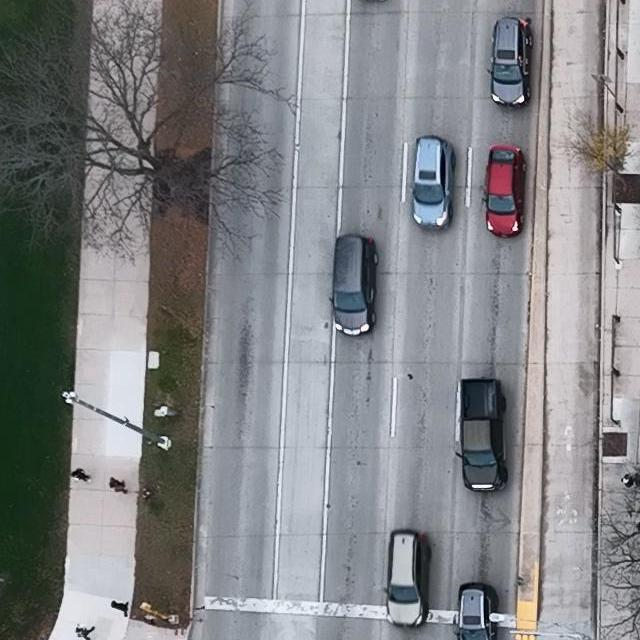car: (454, 376, 507, 492), (329, 235, 379, 336), (383, 530, 432, 626), (408, 135, 456, 231), (487, 17, 534, 109), (482, 144, 527, 237), (453, 582, 500, 640)
